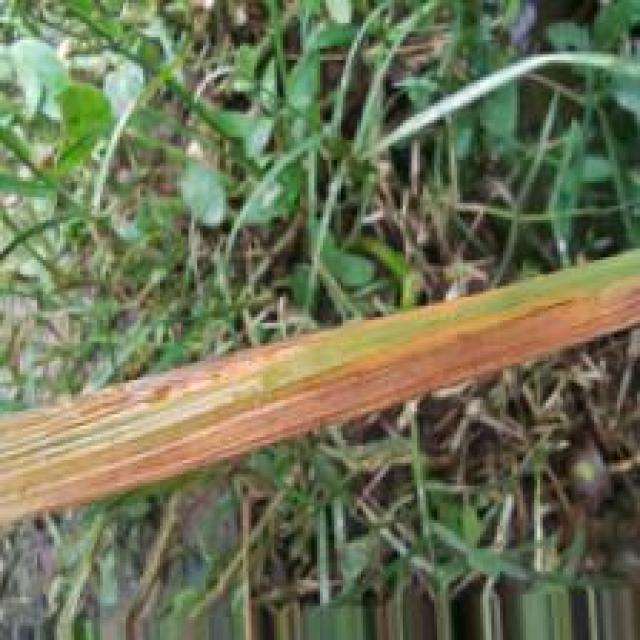Bacterial_Leaf_Blight: (0, 295, 640, 526)
